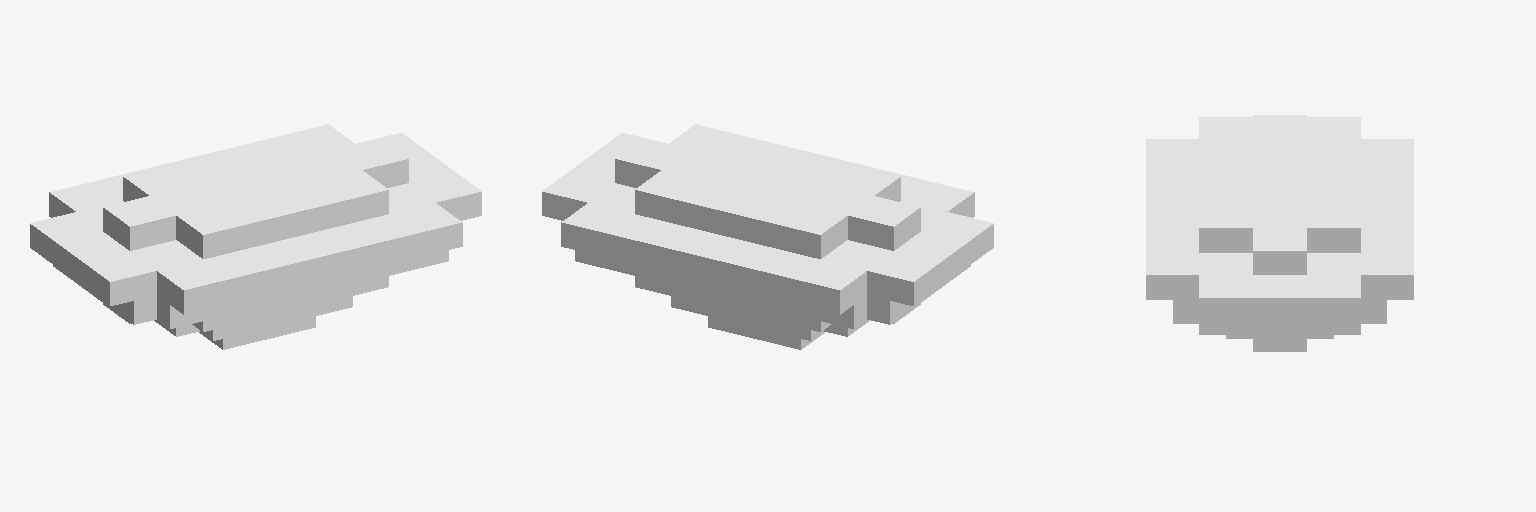
Rendered from PlatformMoving.obj.
3 views of the same model, side by side, from view 1: azimuth 30°, elevation 25°; view 2: azimuth 150°, elevation 25°; view 3: azimuth 270°, elevation 25° (orthographic).
Visible parts, largest first — view 1: object 1; view 2: object 1; view 3: object 1.
Boxes of the visible parts, x1=… form: object 1: x1=30, y1=124, x2=481, y2=349; object 1: x1=542, y1=124, x2=993, y2=349; object 1: x1=1146, y1=115, x2=1413, y2=351.
Size of the model in its own units: 1.6 by 0.6 by 1.